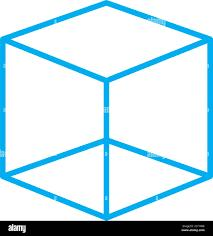cubos: (2, 0, 213, 221)
